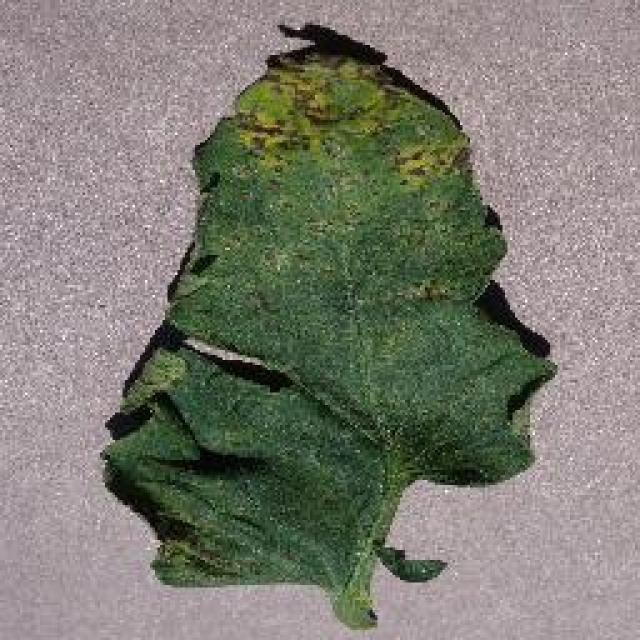Tomato target spot leaf: (99, 26, 559, 626)
